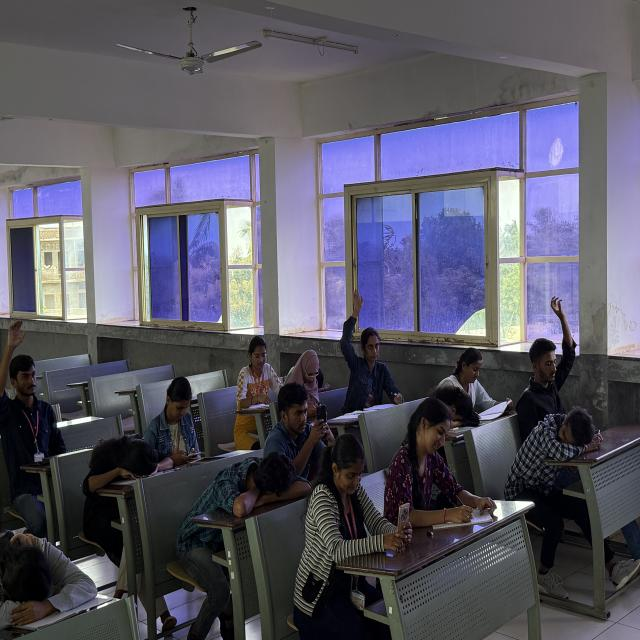Hand Rising: (0, 309, 85, 498), (510, 277, 592, 427)
Sleeping: (337, 265, 411, 413), (506, 407, 610, 492), (87, 421, 163, 513)
Using Phone: (310, 423, 416, 580), (142, 377, 202, 468)
Writing: (390, 396, 479, 536)
